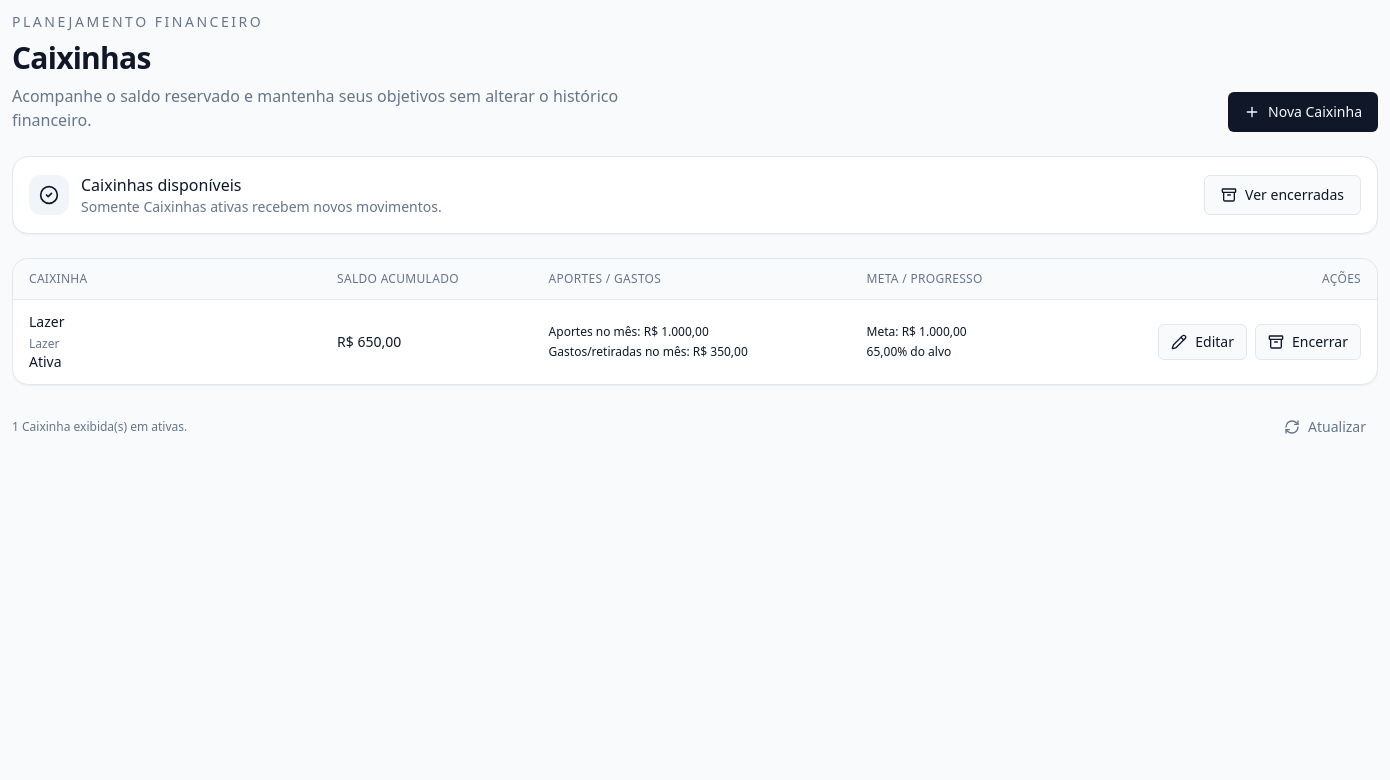
Test: BudgetCollectionScreen › loads the closed collection through the server read action and preserves an empty state
Click the button with test id "budgets-closed-toggle" at (1283, 195), box top-left (1204, 175), bottom-right (1361, 215)
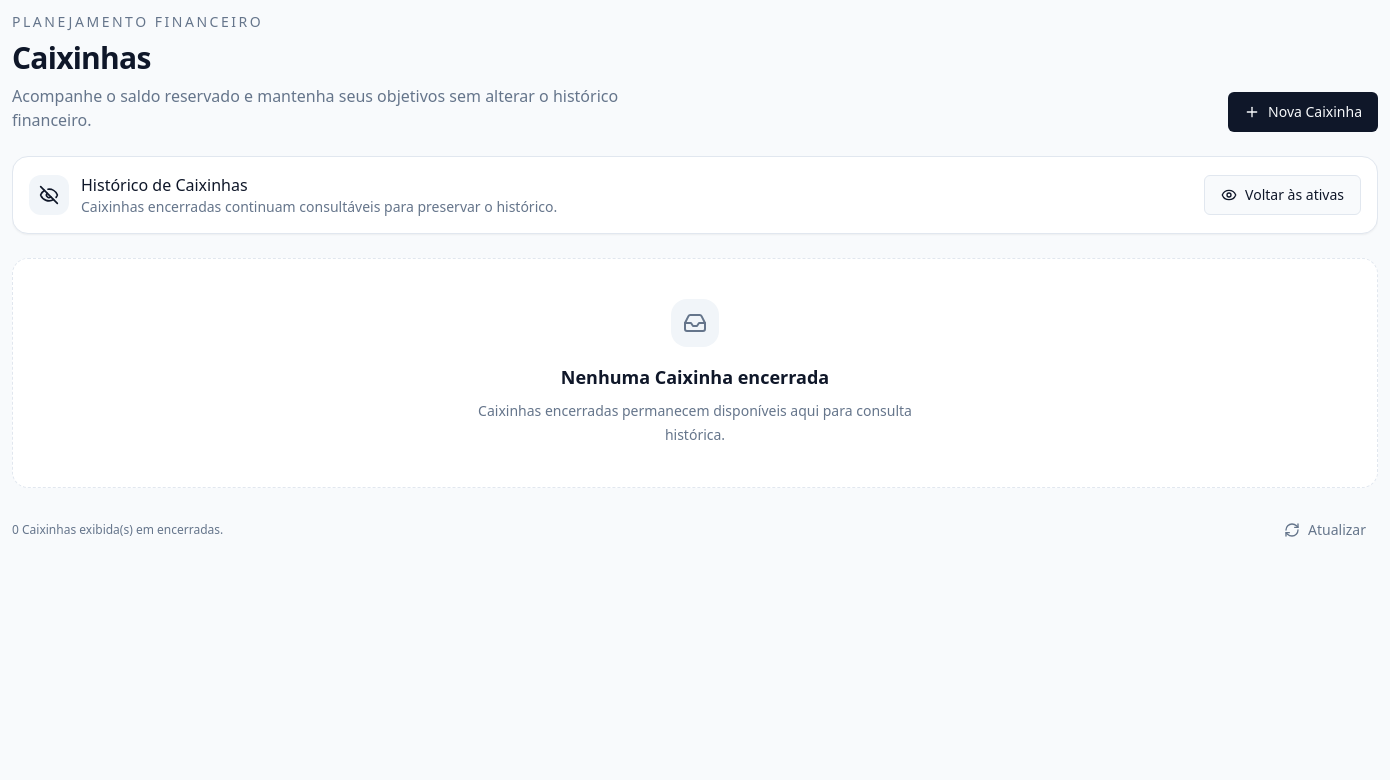
Result: the element with test id "budgets-empty" is shown at top-left (12, 258), bottom-right (1378, 488)
Result: the heading "Nenhuma Caixinha encerrada" is shown at top-left (561, 363), bottom-right (829, 391)
